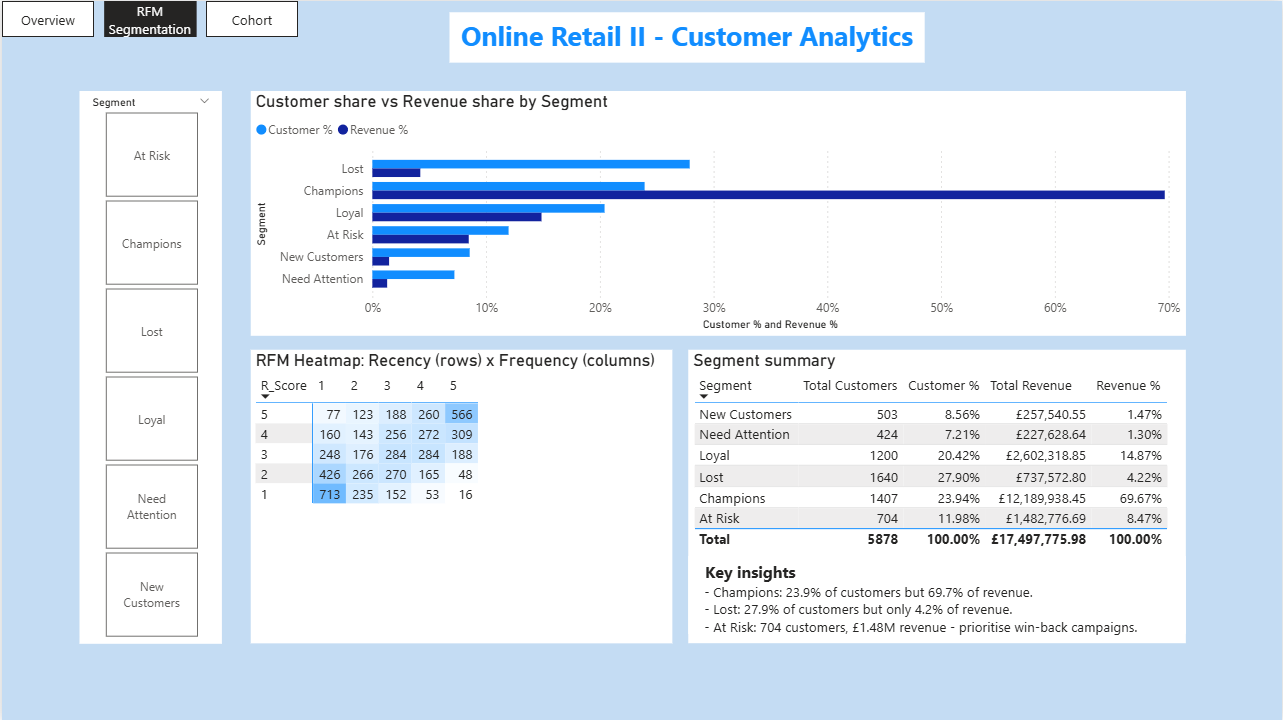

The page's visual inventory and layout, read from the dashboard file:
{"tool":"powerbi","page":{"name":"RFM Segmentation","canvas":[1280,720],"ordinal":1},"visuals":[{"type":"tableEx","title":"Segment summary","fields":{"Values":["Dim_Customer.Segment","_Measures.Total Customers","_Measures.Customer %","_Measures.Total Revenue","_Measures.Revenue %"]},"box":[686.2,348.8,497.5,283.8],"z":0},{"type":"pageNavigator","box":[0,0,297.5,36.2],"z":1000},{"type":"textbox","box":[447.5,11.2,475,50],"z":2000},{"type":"clusteredBarChart","title":"Customer share vs Revenue share by Segment","fields":{"Category":["Dim_Customer.Segment"],"Y":["_Measures.Customer %","_Measures.Revenue %"]},"box":[248.8,90,935,245],"z":3000},{"type":"pivotTable","title":"RFM Heatmap: Recency (rows) x Frequency (columns)","fields":{"Rows":["Dim_Customer.R_Score"],"Columns":["Dim_Customer.F_Score"],"Values":["_Measures.Total Customers"]},"box":[248.8,348.8,421.2,293.8],"z":4000},{"type":"textbox","box":[686.2,555,497.5,87.5],"z":5000},{"type":"slicer","fields":{"Values":["Dim_Customer.Segment"]},"box":[77.5,90,142.5,552.5],"z":6000}]}

Visuals, with their boxes on the page's 1280x720 design canvas (x1, y1, x2, y2). These are canvas units, not pixel positions in the 1283x720 screenshot, which may show the page scaled, cropped or inside an application window:
"Segment summary" tableEx: 686,349,1184,633
pageNavigator: 0,0,298,36
textbox: 448,11,922,61
"Customer share vs Revenue share by Segment" clusteredBarChart: 249,90,1184,335
"RFM Heatmap: Recency (rows) x Frequency (columns)" pivotTable: 249,349,670,643
textbox: 686,555,1184,642
slicer - Dim_Customer.Segment: 78,90,220,642
